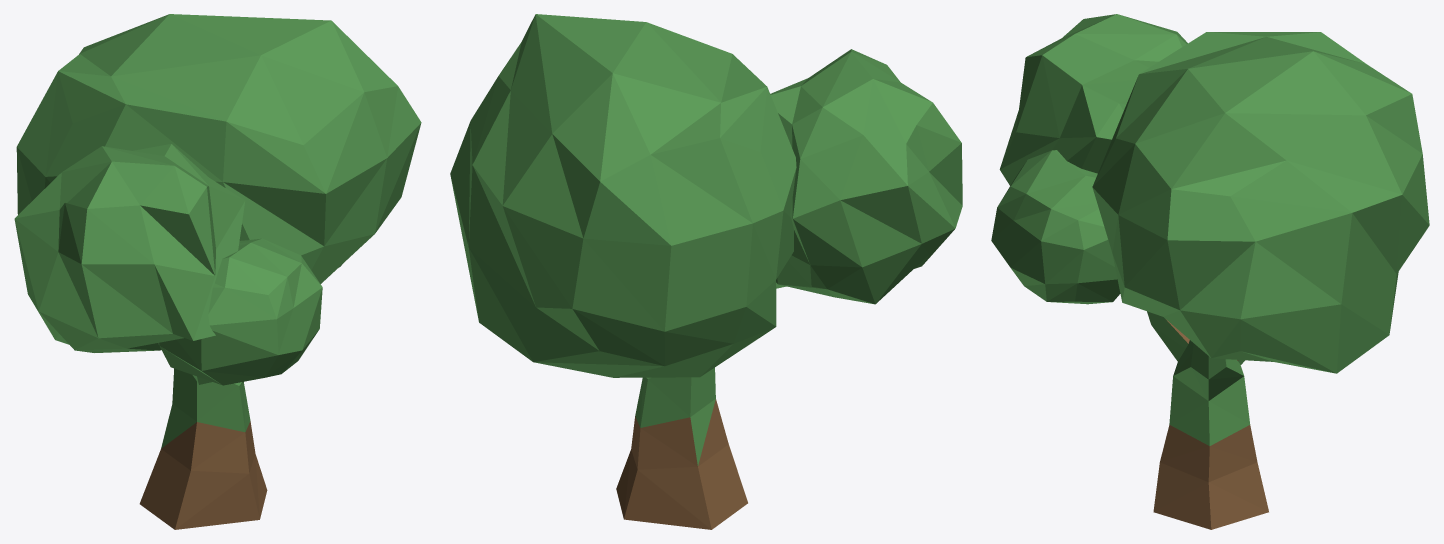
Rendered from tree3d-131.glb.
3 renders of one model, left to right at view 1: azimuth 30°, elevation 25°; view 2: azimuth 150°, elevation 25°; view 3: azimuth 270°, elevation 25°, orthographic. The views are drawn at different scales.
Parts seen in each view (by area): view 1: tree3d-131; view 2: tree3d-131; view 3: tree3d-131.
Part boxes in pixels (x1,y1,x2,y2): tree3d-131: (14, 14, 421, 529); tree3d-131: (450, 14, 962, 529); tree3d-131: (991, 14, 1429, 529).
Size of the model in its own units: 0.9862 by 1 by 0.8724.
